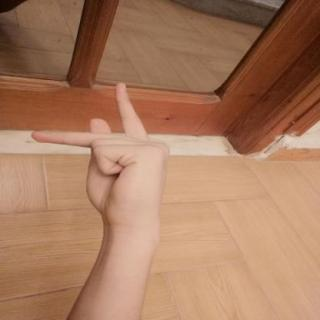DHAA: (23, 77, 176, 231)
